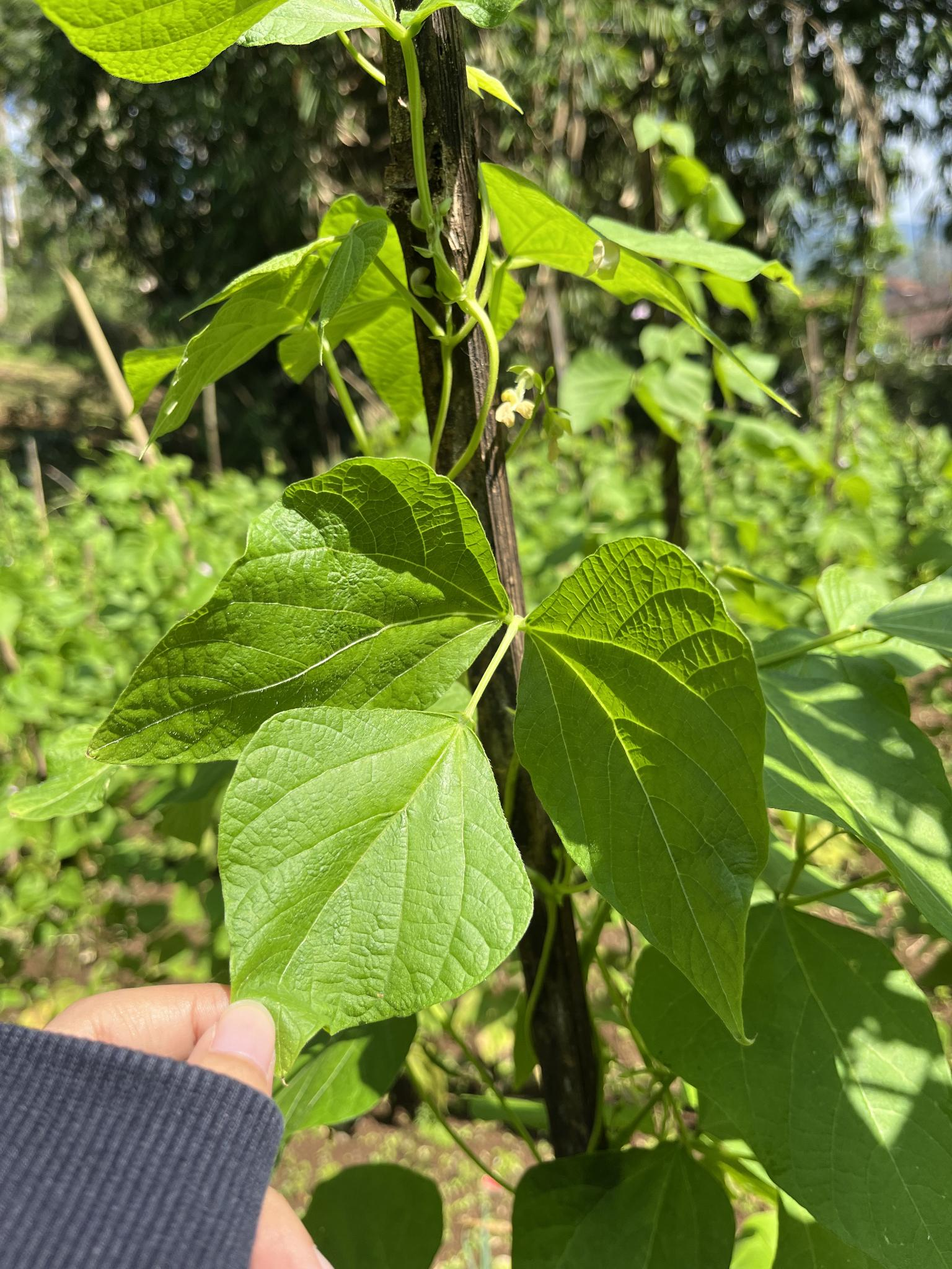sehat: (209, 707, 536, 1095)
